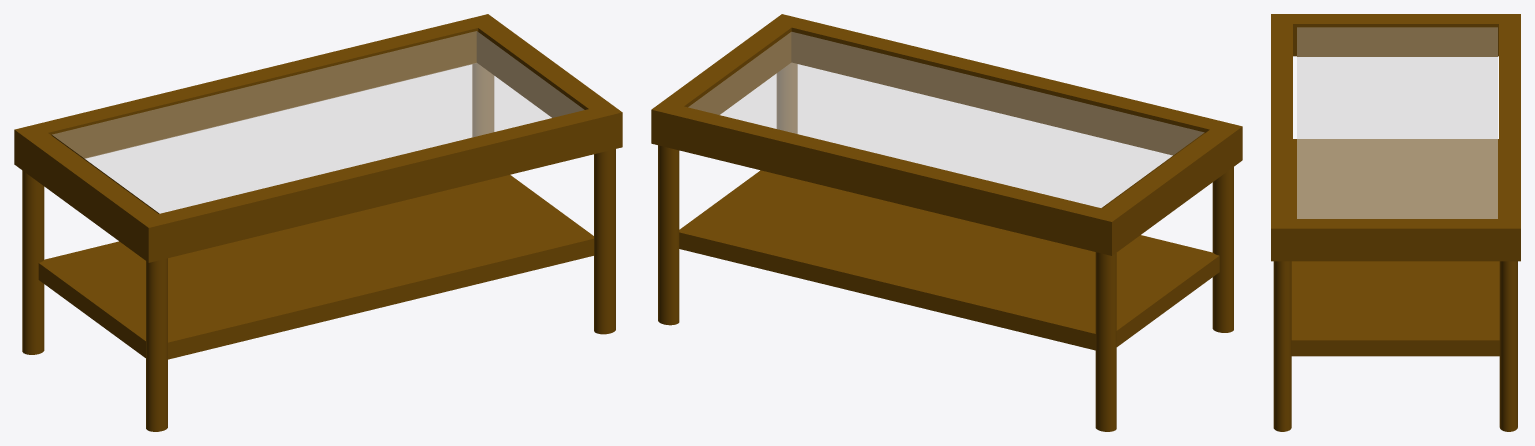
Rendered from table.fbx.
3 views of the same model, side by side, from view 1: azimuth 30°, elevation 25°; view 2: azimuth 150°, elevation 25°; view 3: azimuth 270°, elevation 25° (orthographic). The views are drawn at different scales.
Visible parts, largest first — view 1: polySurface2, pCube2; view 2: polySurface2, pCube2; view 3: polySurface2, pCube2.
Boxes of the visible parts, x1=… form: polySurface2: x1=14, y1=14, x2=622, y2=431; pCube2: x1=51, y1=31, x2=584, y2=213; polySurface2: x1=651, y1=14, x2=1242, y2=431; pCube2: x1=688, y1=31, x2=1204, y2=208; polySurface2: x1=1271, y1=14, x2=1520, y2=431; pCube2: x1=1297, y1=27, x2=1497, y2=218.
Size of the model in its own units: 8.19 by 3.62 by 4.02.
